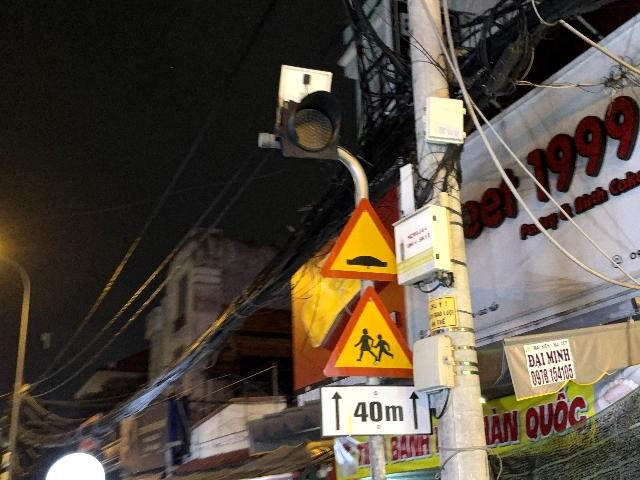duong-co-go-giam-toc: (319, 198, 397, 282)
tre-em-qua-duong: (323, 286, 414, 377)
